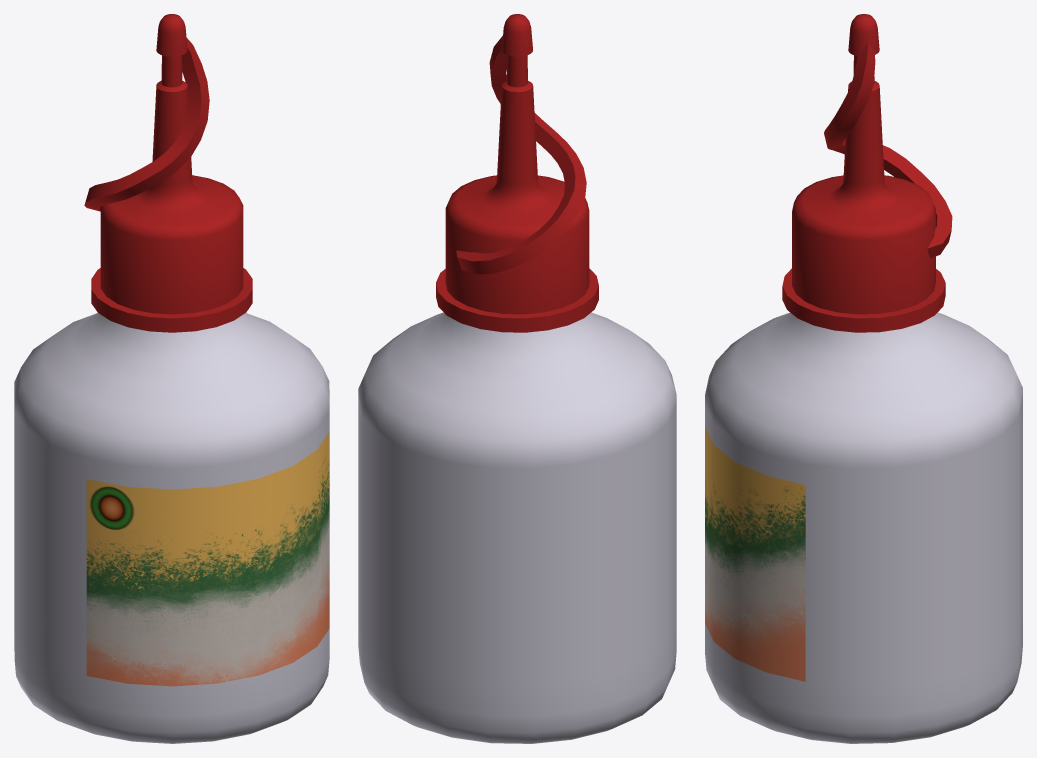
The model's file is OT_189_white_glue_bottle.glb.
3 views of the same model, side by side, from view 1: azimuth 30°, elevation 25°; view 2: azimuth 150°, elevation 25°; view 3: azimuth 270°, elevation 25° (orthographic).
Parts seen in each view (by area): view 1: white_glue_bottle; view 2: white_glue_bottle; view 3: white_glue_bottle.
Boxes of the visible parts, x1,y1,x2,y2 form: white_glue_bottle: (14, 14, 329, 743); white_glue_bottle: (358, 14, 676, 743); white_glue_bottle: (705, 14, 1022, 743).
Bounding box in the file's own units: 1.31 × 3.05 × 1.32.
3 materials, 1 textured.
